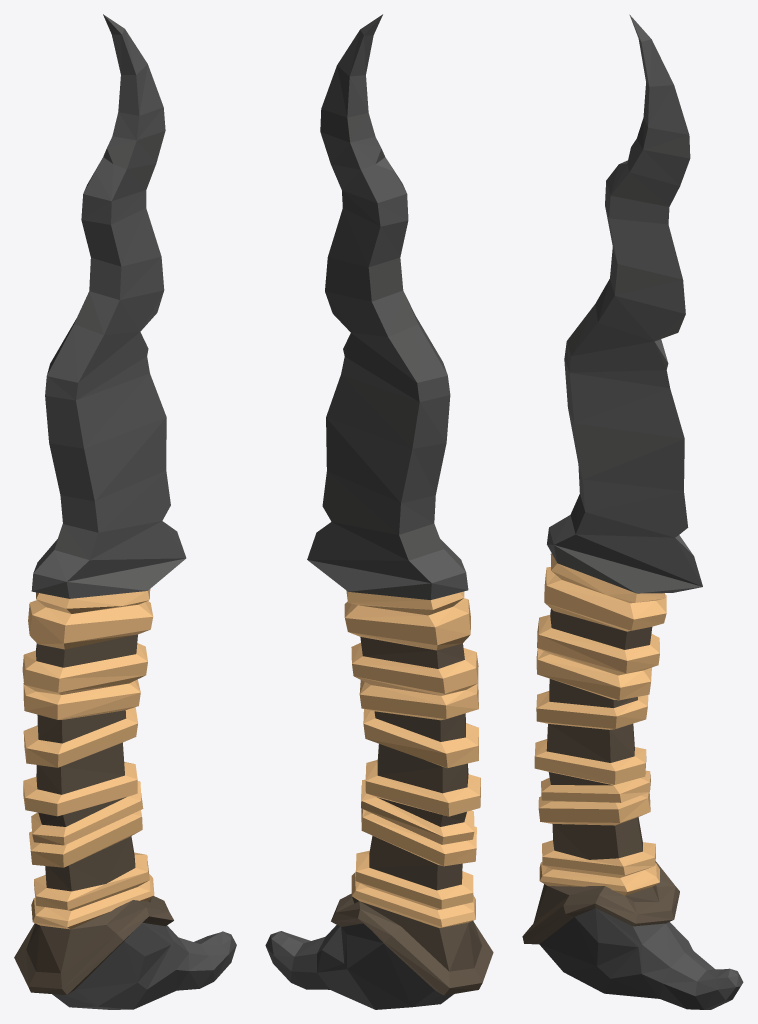
File: Knife_001.fbx
3 renders of one model, left to right at view 1: azimuth 30°, elevation 25°; view 2: azimuth 150°, elevation 25°; view 3: azimuth 330°, elevation 25°, orthographic. The views are drawn at different scales.
Parts seen in each view (by area): view 1: Knife_001; view 2: Knife_001; view 3: Knife_001.
Part boxes in pixels (x1,y1,x2,y2): Knife_001: (14,14,236,1009); Knife_001: (265,14,493,1009); Knife_001: (522,14,743,1009).
Size of the model in its own units: 0.0771 by 0.3473 by 0.042.
